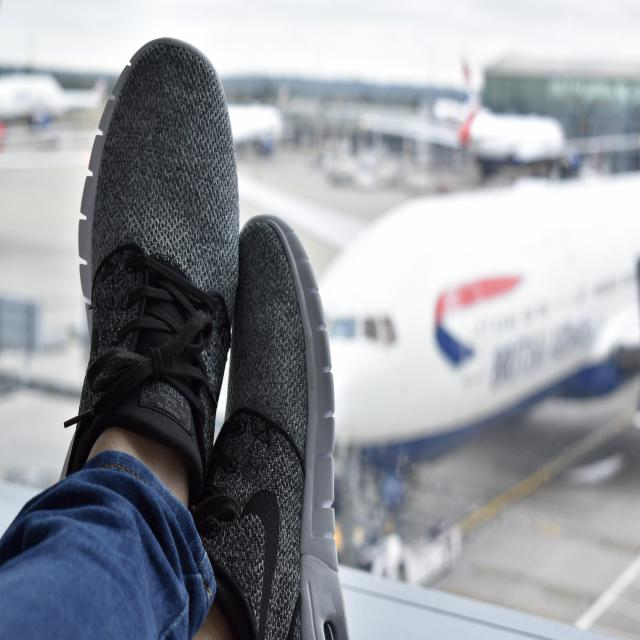shoes: (73, 36, 242, 450), (210, 214, 354, 640)
